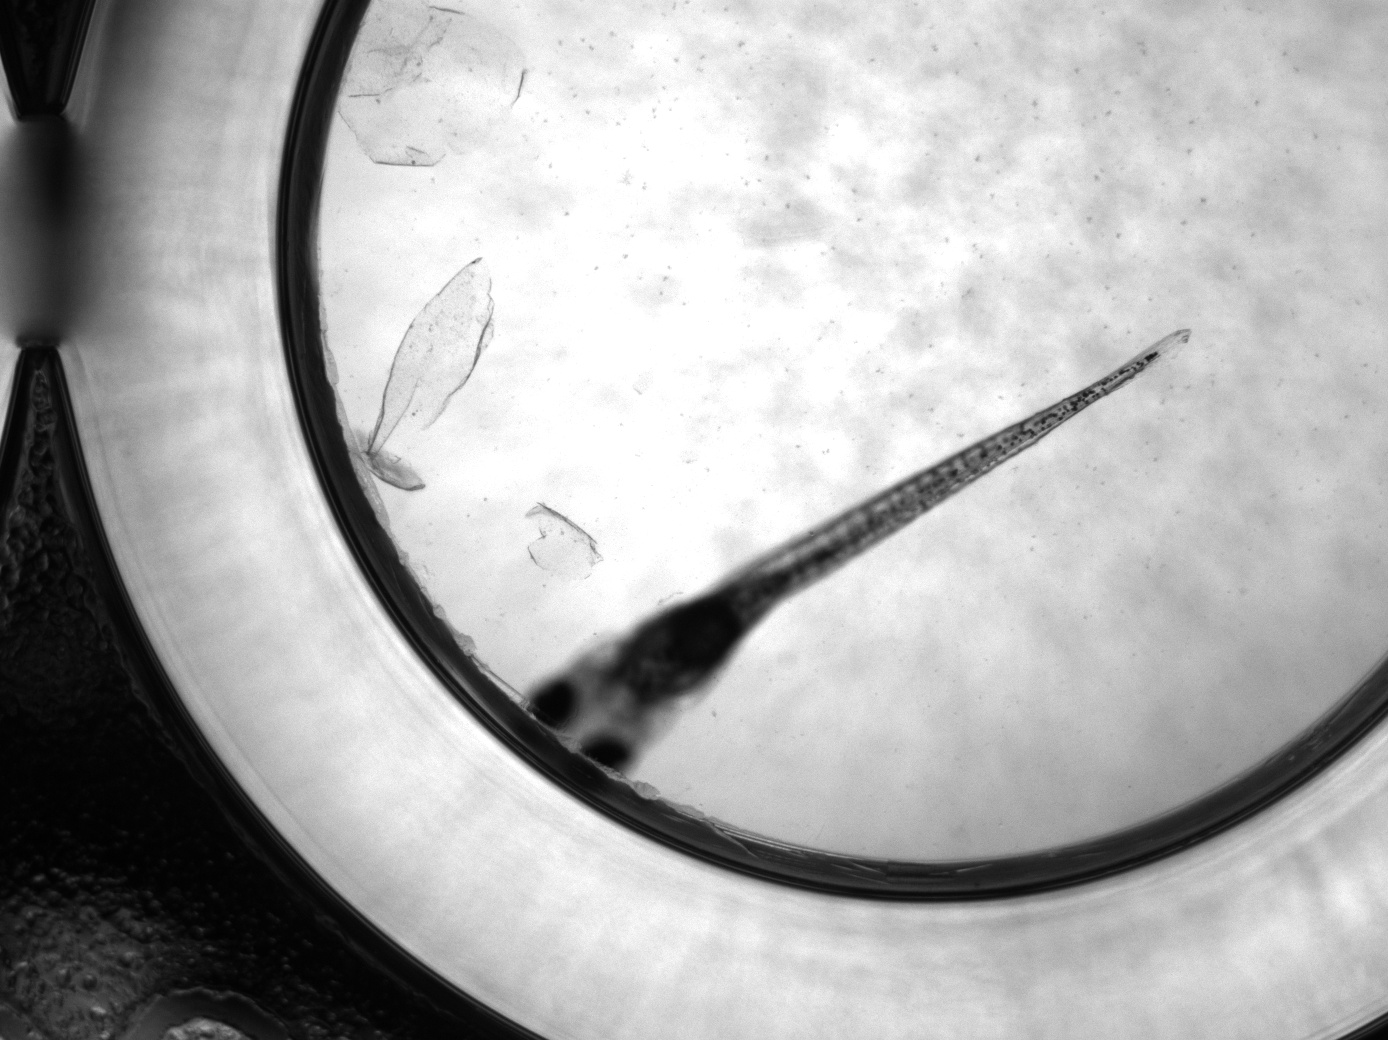debris: (357, 255, 497, 491), (330, 1, 529, 166), (521, 499, 601, 582)
embryo: (517, 347, 1163, 784)
